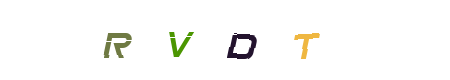D: (201, 0, 281, 80)
R: (105, 0, 185, 80)
T: (231, 0, 311, 80)
V: (185, 0, 265, 80)
